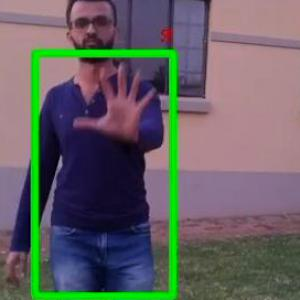follow_hand: (70, 56, 158, 144)
